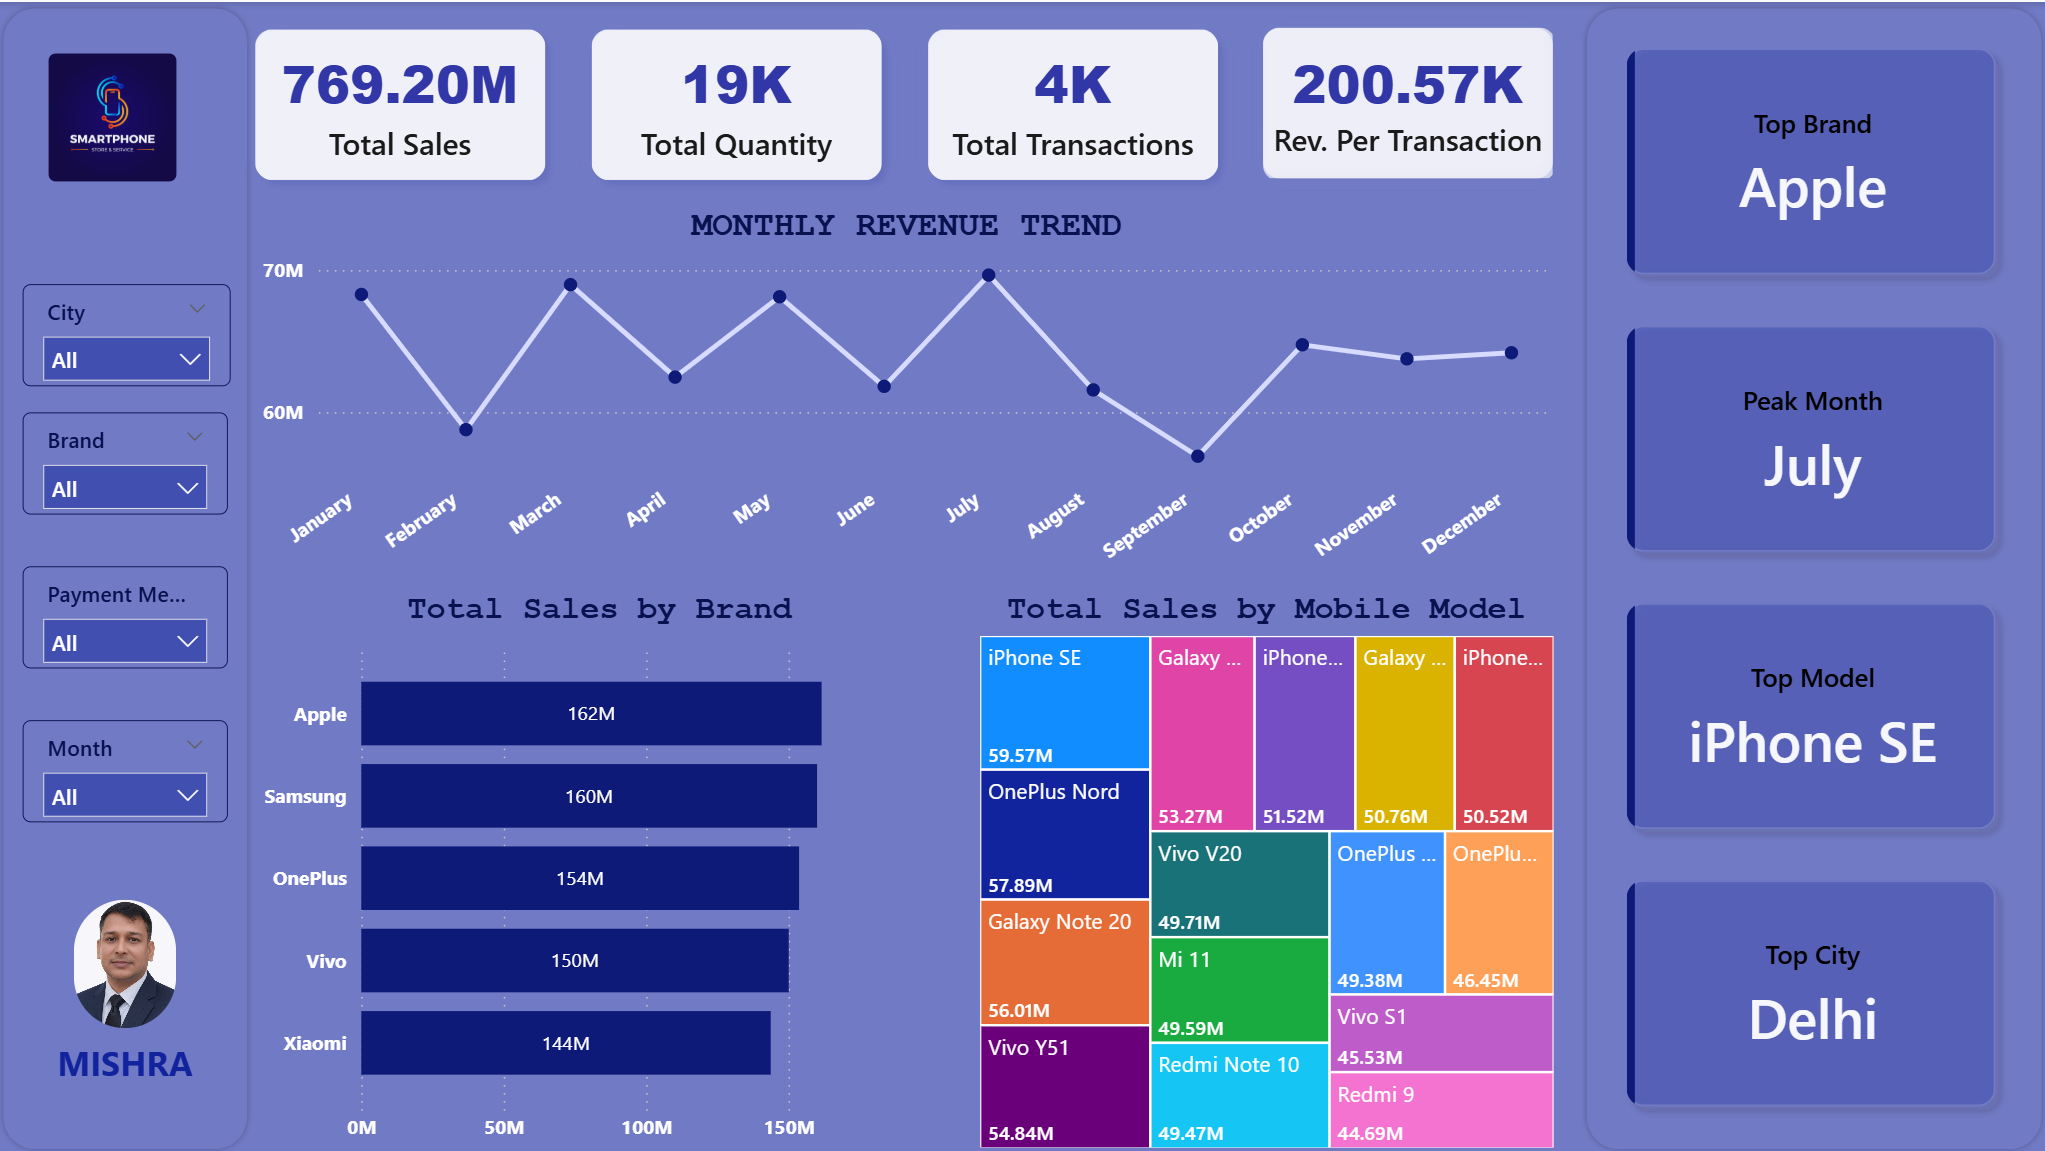

Layout of this report page (visuals, bound fields, positions):
{"tool":"powerbi","page":{"name":"Page 1","canvas":[1280,720],"ordinal":0},"visuals":[{"type":"shape","box":[0,0,160,720],"z":0},{"type":"group","id":"g1","title":"Group 1","box":[16,0,1264,720],"z":1000},{"type":"cardVisual","fields":{"Data":["MOBILE_SALES_DASHBAORD.Total Sales","MOBILE_SALES_DASHBAORD.Total Quantity","MOBILE_SALES_DASHBAORD.Total Transactions","MOBILE_SALES_DASHBAORD.Revenue Per Transaction"]},"box":[144,0,848,128],"z":2000},{"type":"lineChart","title":"MONTHLY REVENUE TREND","fields":{"Category":["MOBILE_SALES_DASHBAORD.Date.Variation.Date Hierarchy.Year","MOBILE_SALES_DASHBAORD.Date.Variation.Date Hierarchy.Month"],"Y":["MOBILE_SALES_DASHBAORD.Total Sales"]},"box":[160,128,816,240],"z":3000},{"type":"clusteredBarChart","fields":{"Y":["MOBILE_SALES_DASHBAORD.Total Sales"],"Category":["MOBILE_SALES_DASHBAORD.Brand"]},"box":[160,368,432,352],"z":4000},{"type":"shape","box":[988.3,0,291.7,720],"z":4500,"group":"g1"},{"type":"treemap","fields":{"Group":["MOBILE_SALES_DASHBAORD.Mobile Model"],"Values":["MOBILE_SALES_DASHBAORD.Total Sales"]},"box":[608,368,368,352],"z":5000},{"type":"image","box":[32,32,80,80],"z":6000},{"type":"slicer","fields":{"Values":["MOBILE_SALES_DASHBAORD.City"]},"box":[16,176,129.6,64],"z":6001,"group":"g1"},{"type":"slicer","fields":{"Values":["MOBILE_SALES_DASHBAORD.Brand"]},"box":[16,256,128,64],"z":7000},{"type":"slicer","fields":{"Values":["MOBILE_SALES_DASHBAORD.Payment Method"]},"box":[16,352,128,64],"z":8000},{"type":"slicer","fields":{"Values":["MOBILE_SALES_DASHBAORD.Date.Variation.Date Hierarchy.Month"]},"box":[16,448,128,64],"z":9000},{"type":"cardVisual","fields":{"Data":["MOBILE_SALES_DASHBAORD.Top Brand","MOBILE_SALES_DASHBAORD.Peak Month","MOBILE_SALES_DASHBAORD.Top Model","MOBILE_SALES_DASHBAORD.Top City"]},"box":[988.3,0,288.2,720.4],"z":10000},{"type":"image","box":[48,560,64,80],"z":11000},{"type":"textbox","box":[0,624,160,64],"z":12000}]}

Visuals, with their boxes in screenshot pixels (x1, y1, x2, y2), scaled from the page's 1280x720 canvas onto the 2045x1151 screenshot:
shape: box=[0, 0, 256, 1150]
"Group 1" group: box=[26, 0, 2044, 1150]
cardVisual - MOBILE_SALES_DASHBAORD.Total Sales x MOBILE_SALES_DASHBAORD.Total Quantity: box=[230, 0, 1585, 205]
"MONTHLY REVENUE TREND" lineChart: box=[256, 205, 1559, 588]
clusteredBarChart - MOBILE_SALES_DASHBAORD.Total Sales x MOBILE_SALES_DASHBAORD.Brand: box=[256, 588, 946, 1150]
shape: box=[1579, 0, 2044, 1150]
treemap - MOBILE_SALES_DASHBAORD.Mobile Model x MOBILE_SALES_DASHBAORD.Total Sales: box=[971, 588, 1559, 1150]
image: box=[51, 51, 179, 179]
slicer - MOBILE_SALES_DASHBAORD.City: box=[26, 281, 233, 384]
slicer - MOBILE_SALES_DASHBAORD.Brand: box=[26, 409, 230, 512]
slicer - MOBILE_SALES_DASHBAORD.Payment Method: box=[26, 563, 230, 665]
slicer - MOBILE_SALES_DASHBAORD.Date.Variation.Date Hierarchy.Month: box=[26, 716, 230, 818]
cardVisual - MOBILE_SALES_DASHBAORD.Top Brand x MOBILE_SALES_DASHBAORD.Peak Month: box=[1579, 0, 2039, 1150]
image: box=[77, 895, 179, 1023]
textbox: box=[0, 998, 256, 1100]
